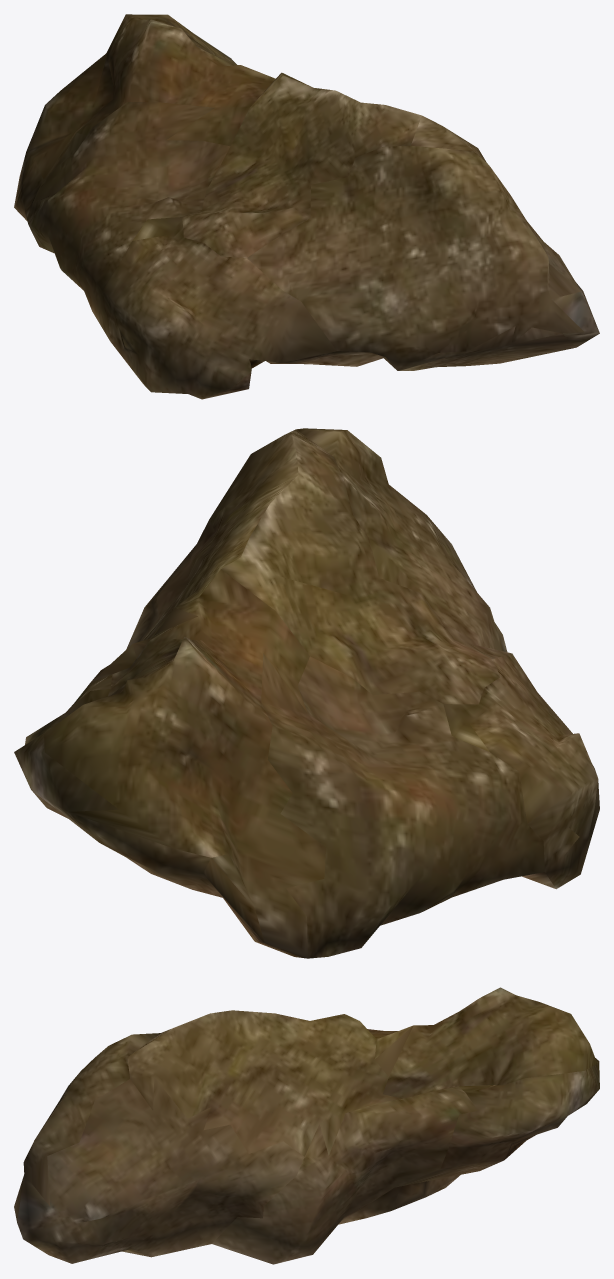
The model's file is prock_c.glb.
3 views of the same model, one above another, from view 1: azimuth 30°, elevation 25°; view 2: azimuth 150°, elevation 25°; view 3: azimuth 270°, elevation 25° (orthographic). The views are drawn at different scales.
Parts seen in each view (by area): view 1: prock_c; view 2: prock_c; view 3: prock_c.
Boxes of the visible parts, x1,y1,x2,y2 form: prock_c: [14, 14, 599, 399]; prock_c: [14, 428, 599, 958]; prock_c: [14, 987, 599, 1264].
Size of the model in its own units: 1.47 by 0.9688 by 2.2.
Materials: 1 (1 with a texture image).
